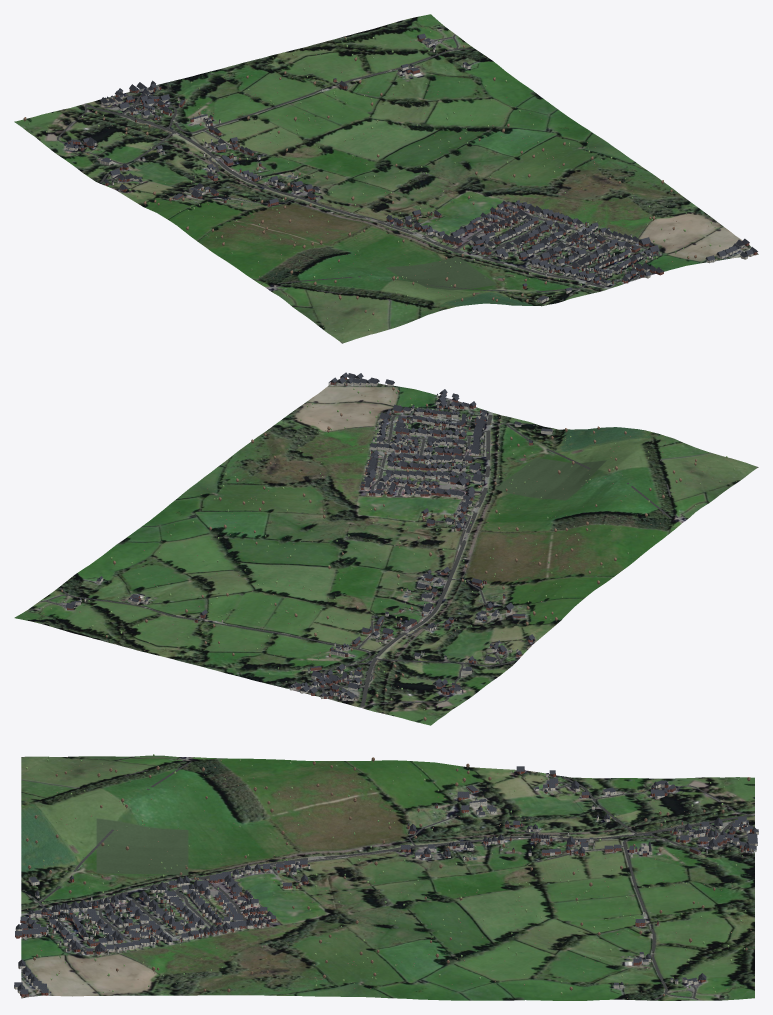
File: howey-terrain-v5.glb
The picture shows the model from 3 angles, top to bottom: view 1: azimuth 30°, elevation 25°; view 2: azimuth 150°, elevation 25°; view 3: azimuth 270°, elevation 25°; orthographic projection. The views are drawn at different scales.
Parts seen in each view (by area): view 1: Terrain_3D, Roofs, Buildings_OSM, Roads, Bushes, Trees; view 2: Terrain_3D, Roofs, Buildings_OSM, Roads, Bushes, Trees; view 3: Terrain_3D, Roofs, Buildings_OSM, Roads, Bushes, Trees.
Boxes of the visible parts, <box> form: Terrain_3D: <box>14,14,758,343</box>; Roofs: <box>69,33,757,290</box>; Buildings_OSM: <box>64,38,757,303</box>; Roads: <box>57,26,647,299</box>; Bushes: <box>23,19,715,338</box>; Trees: <box>28,29,720,332</box>; Terrain_3D: <box>14,379,758,725</box>; Roofs: <box>65,372,534,699</box>; Buildings_OSM: <box>67,377,552,700</box>; Roads: <box>30,400,678,706</box>; Bushes: <box>43,385,749,721</box>; Trees: <box>42,385,741,717</box>; Terrain_3D: <box>21,755,754,1000</box>; Roofs: <box>14,766,758,994</box>; Buildings_OSM: <box>14,770,758,996</box>; Roads: <box>25,759,751,999</box>; Bushes: <box>26,757,751,998</box>; Trees: <box>25,754,746,994</box>.
Size of the model in its own units: 1101 by 195 by 1523.
11 materials, 5 textured.
